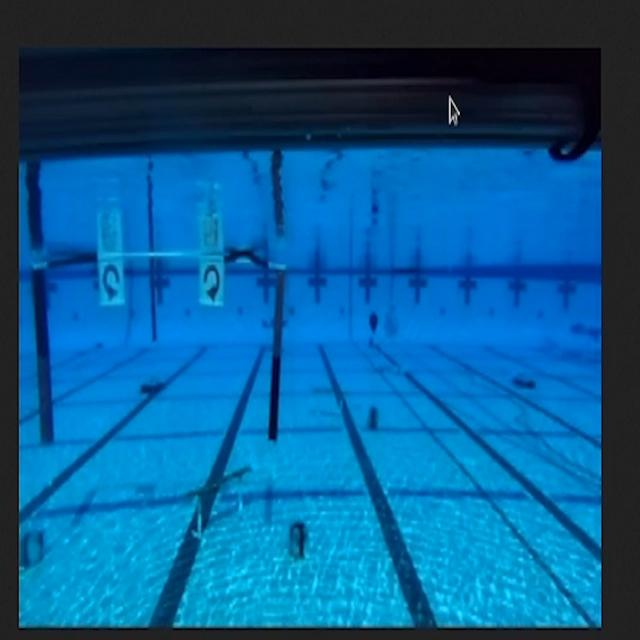Gate: (31, 254, 288, 457)
